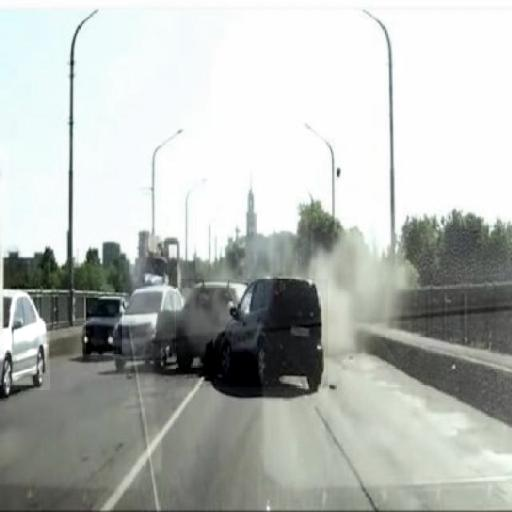小汽车: (4, 290, 50, 390), (116, 286, 175, 360), (86, 298, 122, 354)
小汽车撞小汽车: (176, 280, 328, 388)
